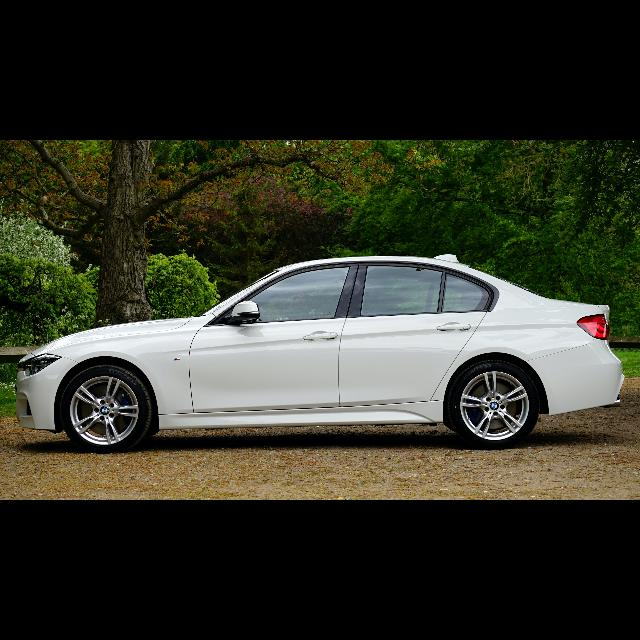cars: (9, 245, 628, 465)
